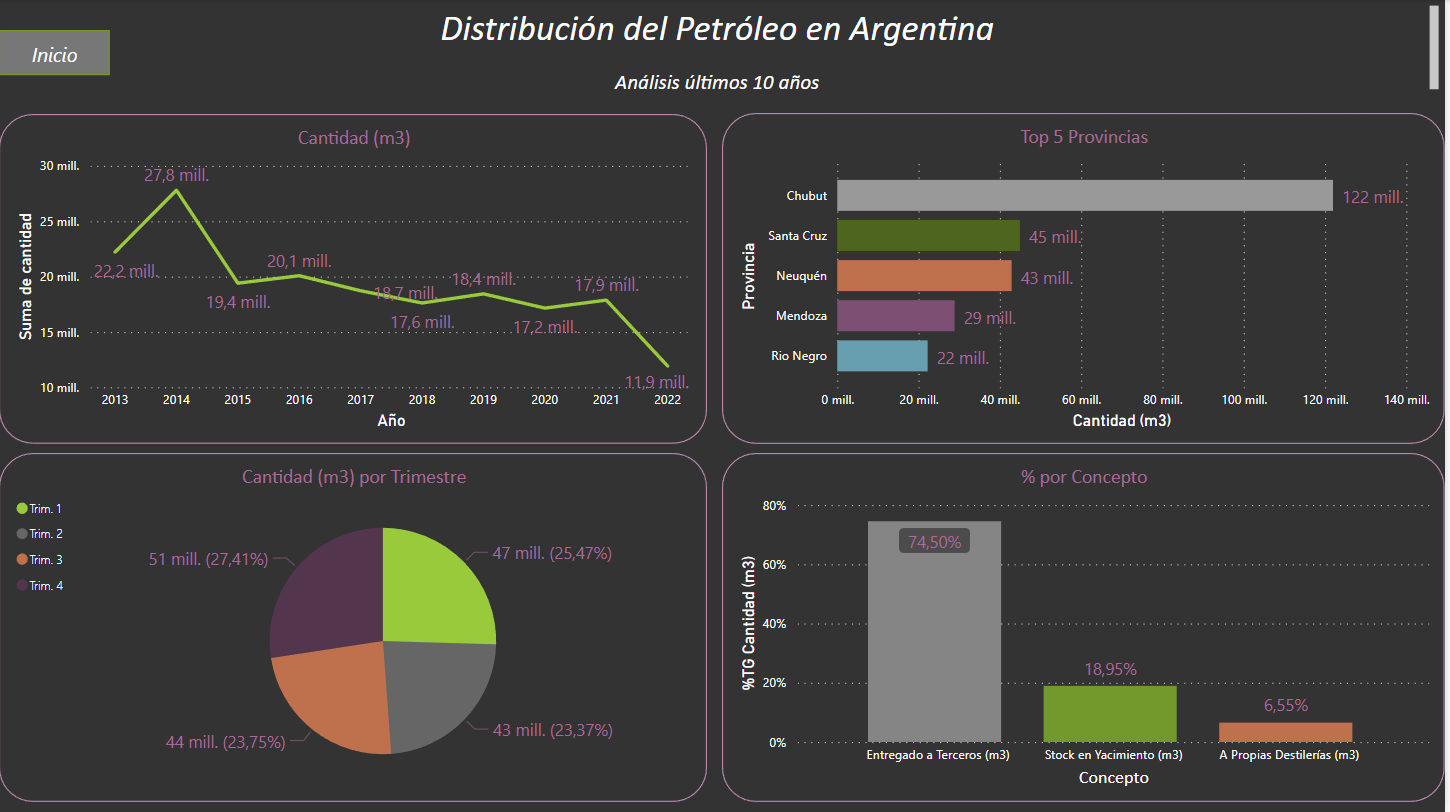

What the dashboard file says about the page in this screenshot:
{"tool":"powerbi","page":{"name":"General","canvas":[1280,720],"ordinal":1},"visuals":[{"type":"lineChart","title":"Cantidad (m3) ","fields":{"Y":["Sum(Distribucion Petroleo.cantidad)"],"Category":["Tabla Puente.fecha_data.Variación.Jerarquía de fechas.Año"]},"box":[0,101,627,292.3],"z":0},{"type":"pieChart","fields":{"Y":["Distribucion Petroleo.Cantidad (m3)"],"Category":["Tabla Puente.fecha_data.Variación.Jerarquía de fechas.Trimestre"]},"box":[0,401.3,626.9,309.1],"z":1000},{"type":"barChart","title":"Top 5 Provincias","fields":{"Category":["Distribucion Petroleo.Provincia"],"Y":["Distribucion Petroleo.Cantidad (m3)"]},"box":[640.5,99.7,639.5,293.2],"z":2000},{"type":"lineStackedColumnComboChart","title":"% por Concepto","fields":{"Category":["Distribucion Petroleo.Concepto"],"Y":["Divide(Distribucion Petroleo.Cantidad (m3), ScopedEval(Distribucion Petroleo.Cantidad (m3), []))"]},"box":[640.5,401.5,639.5,308.6],"z":3000},{"type":"textbox","box":[0,0,1280,94.3],"z":5000},{"type":"shape","box":[0,26.5,98.2,40.3],"z":6000}]}

Visuals, with their boxes in screenshot pixels (x1, y1, x2, y2), scaled from the page's 1280x720 canvas onto the 1450x812 screenshot:
"Cantidad (m3) " lineChart: [0, 114, 710, 444]
pieChart - Distribucion Petroleo.Cantidad (m3) x Tabla Puente.fecha_data.Variación.Jerarquía de fechas.Trimestre: [0, 453, 710, 801]
"Top 5 Provincias" barChart: [726, 112, 1449, 443]
"% por Concepto" lineStackedColumnComboChart: [726, 453, 1449, 801]
textbox: [0, 0, 1449, 106]
shape: [0, 30, 111, 75]
